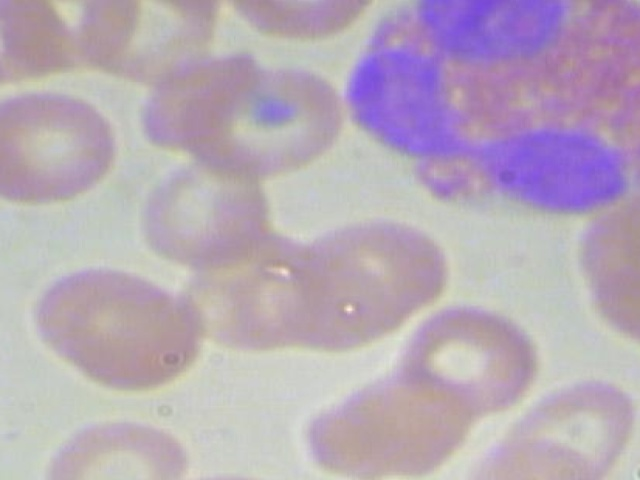RBC: (5, 262, 190, 374), (181, 54, 352, 175), (398, 296, 540, 413), (65, 285, 207, 396), (494, 377, 640, 480), (0, 83, 118, 206), (36, 408, 186, 480), (442, 432, 602, 480)
WBC: (322, 0, 640, 223)
